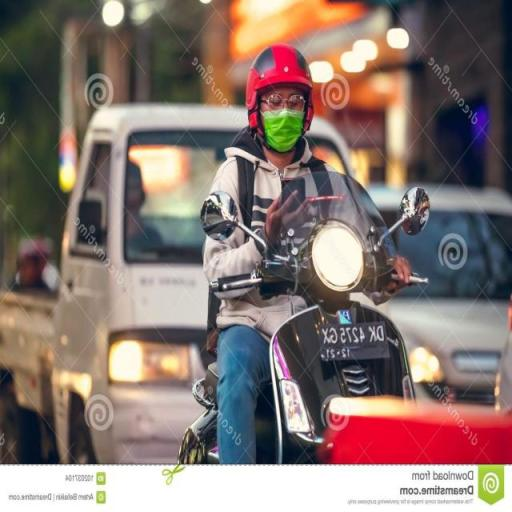Helmet: (242, 30, 310, 159)
Motor: (198, 188, 432, 466)
